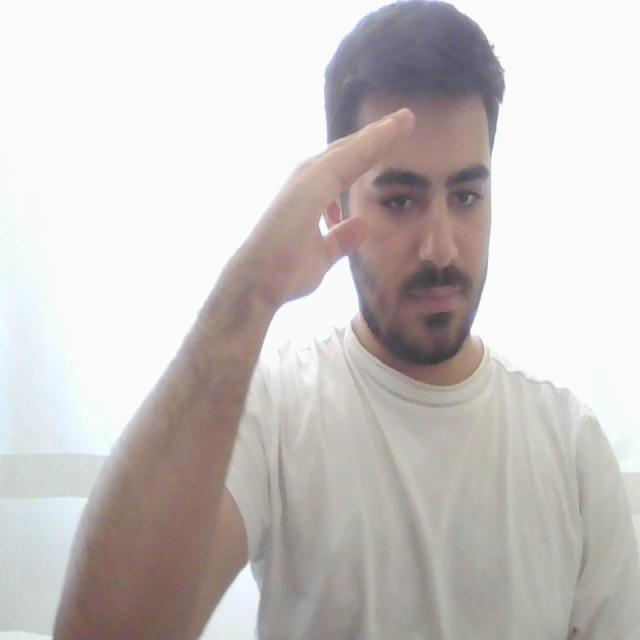Merhaba: (235, 63, 429, 355)
